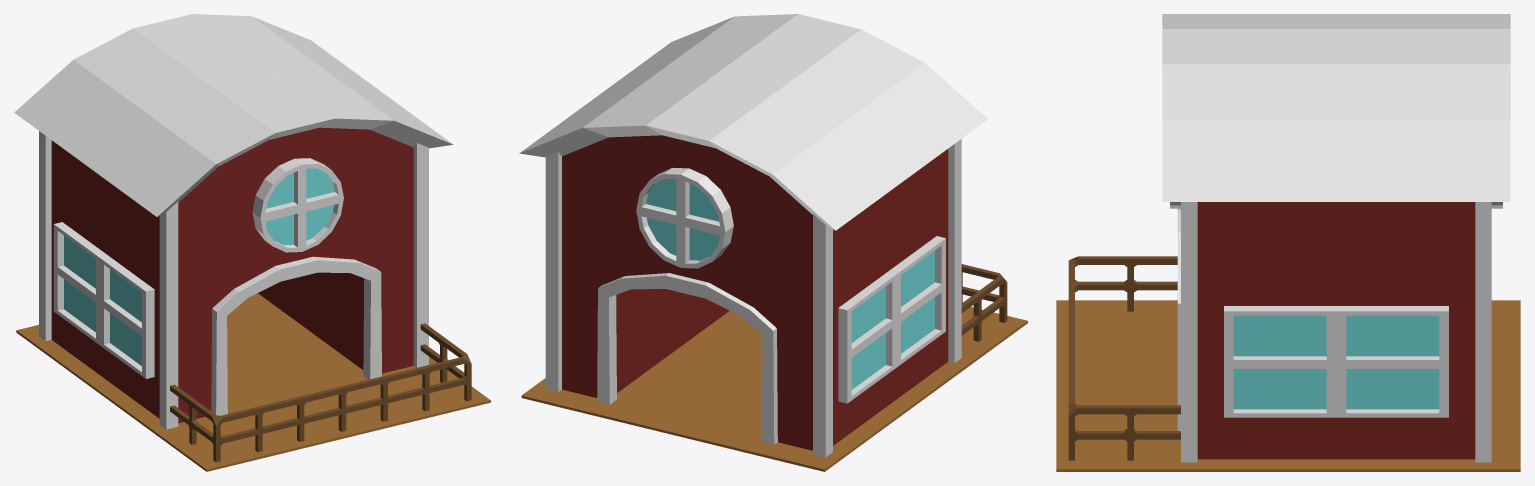
File: Granja.glb
3 renders of one model, left to right at view 1: azimuth 30°, elevation 25°; view 2: azimuth 150°, elevation 25°; view 3: azimuth 270°, elevation 25°, orthographic. The views are drawn at different scales.
Visible parts, largest first — view 1: Plane; view 2: Plane; view 3: Plane.
Boxes of the visible parts, x1,y1,x2,y2 form: Plane: [14, 14, 490, 471]; Plane: [519, 14, 1027, 471]; Plane: [1056, 14, 1520, 471].
Bounding box in the file's own units: 7.1 × 6.4 × 7.89.
